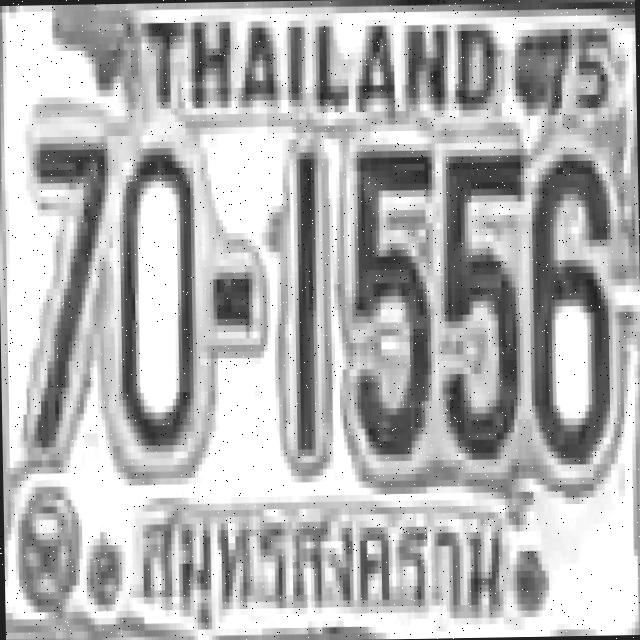0: (116, 141, 199, 446)
1: (267, 146, 323, 470), (281, 142, 322, 466), (284, 142, 322, 466), (288, 142, 322, 466)
5: (438, 142, 525, 452), (349, 143, 432, 454)
6: (527, 147, 610, 458)
7: (20, 132, 114, 450)
SamutSongkhram: (121, 470, 515, 640)
